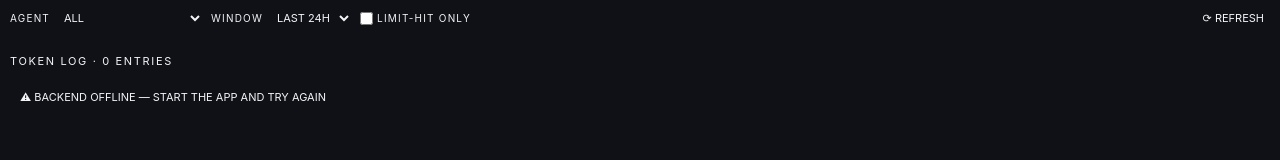
Test case: TokensPanelV2 request-failure messaging › clears the thrown-request error after a successful refresh
This screenshot has width=1280, height=160.
Check: the text "⚠ BACKEND OFFLINE — START THE APP AND TRY AGAIN" is shown, box [20,90,326,104]
What coordinates should you click on to do the following:
click the button "⟳ REFRESH"
I would click on:
 (1233, 18)
Its box is [1197,8,1270,28].
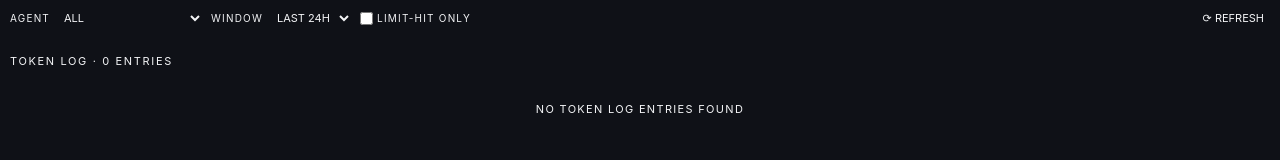
Check: the text "⚠ BACKEND OFFLINE — START THE APP AND TRY AGAIN" is gone
